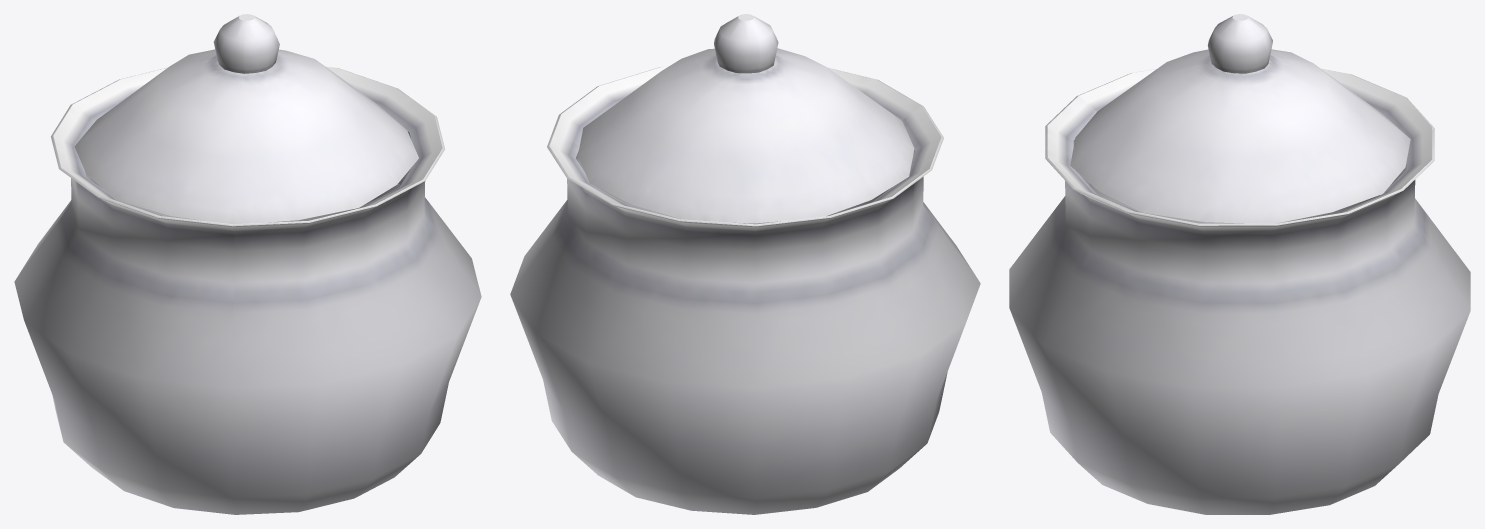
File: TeaportB.FBX
3 renders of one model, left to right at view 1: azimuth 30°, elevation 25°; view 2: azimuth 150°, elevation 25°; view 3: azimuth 270°, elevation 25°, orthographic.
Visible parts, largest first — view 1: TeaportB; view 2: TeaportB; view 3: TeaportB.
Boxes of the visible parts, x1,y1,x2,y2 form: TeaportB: (14,14,481,514); TeaportB: (510,14,980,514); TeaportB: (1009,14,1470,514).
Size of the model in its own units: 11.76 by 12.06 by 11.76.
